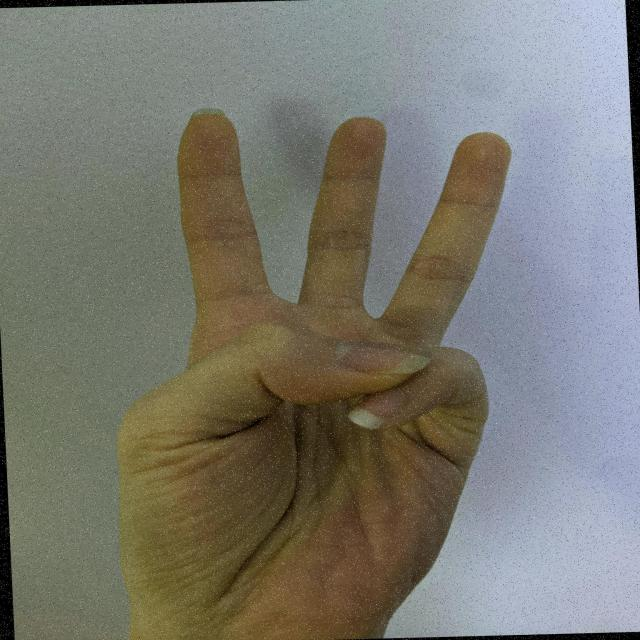W: (87, 93, 546, 640)
